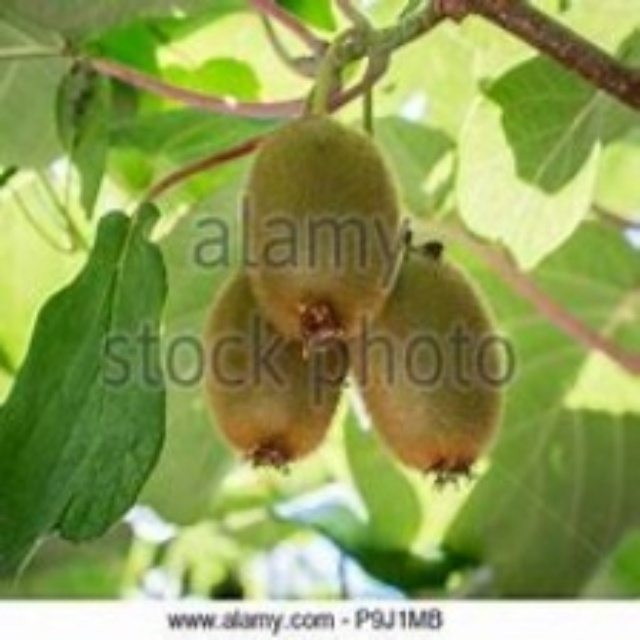kiwi: (232, 114, 411, 364), (355, 244, 522, 489), (189, 268, 343, 480)
